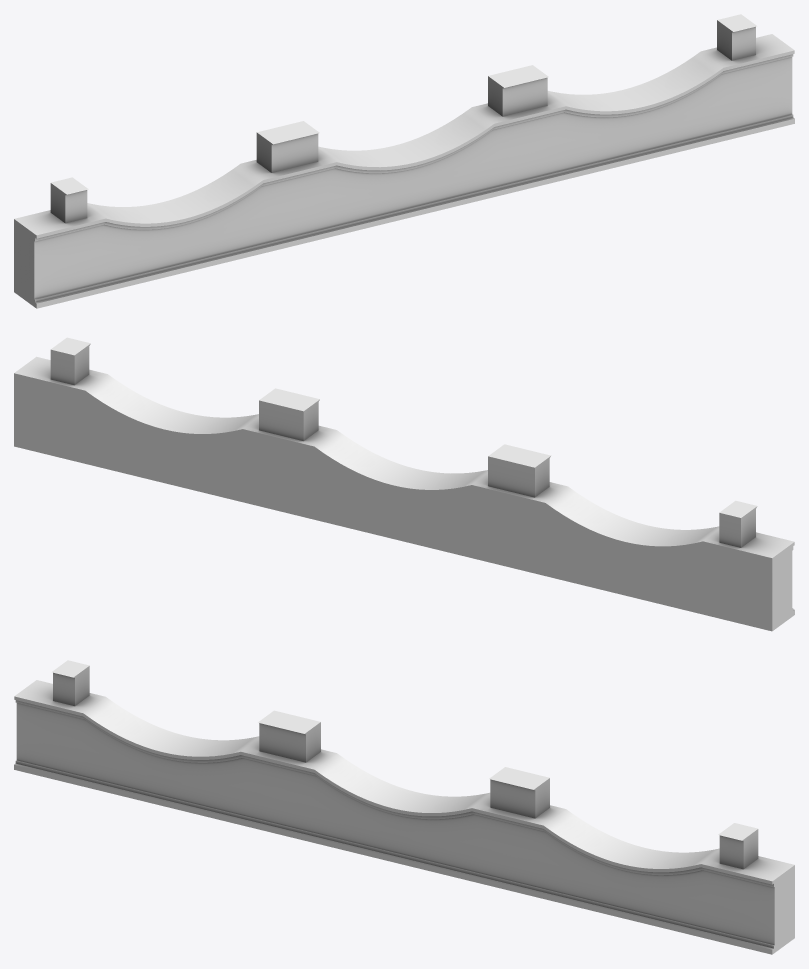
File: roof_4.glb
3 views of the same model, one above another, from view 1: azimuth 30°, elevation 25°; view 2: azimuth 150°, elevation 25°; view 3: azimuth 330°, elevation 25° (orthographic).
Parts seen in each view (by area): view 1: roof_4; view 2: roof_4; view 3: roof_4.
Boxes of the visible parts, x1,y1,x2,y2 form: roof_4: [14, 14, 794, 308]; roof_4: [14, 337, 794, 631]; roof_4: [14, 660, 794, 954].
Bounding box in the file's own units: 6.5 × 0.8453 × 0.3374.
Materials: 1 (1 with a texture image).
